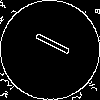I: (25, 25, 72, 58)
